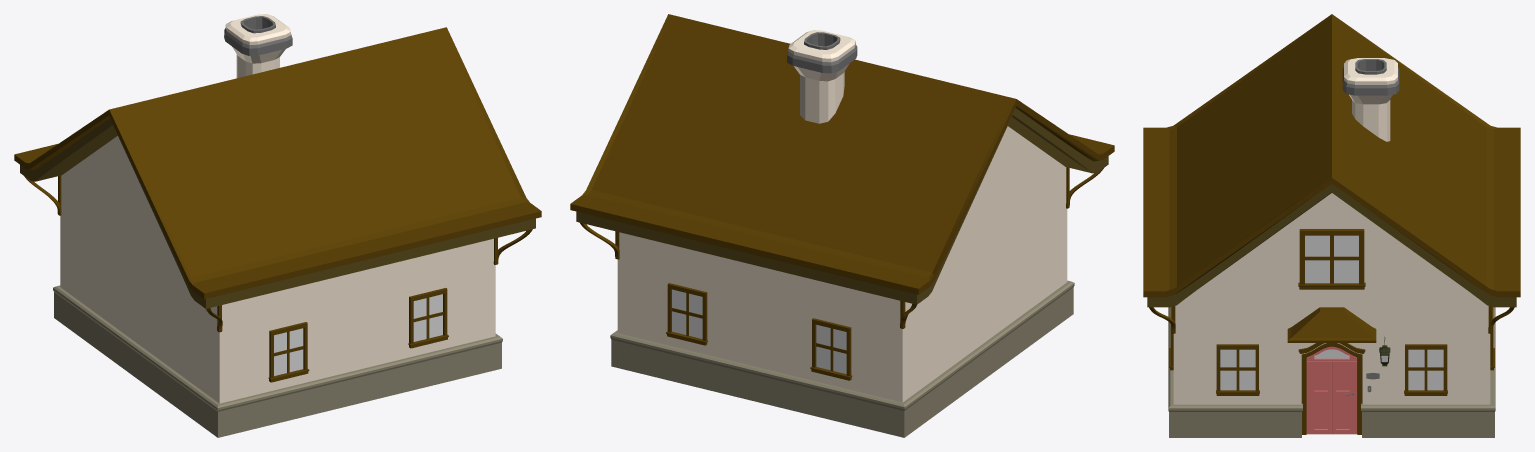
Rendered from TP_House.fbx.
3 renders of one model, left to right at view 1: azimuth 30°, elevation 25°; view 2: azimuth 150°, elevation 25°; view 3: azimuth 270°, elevation 25°, orthographic. The views are drawn at different scales.
Visible parts, largest first — view 1: roof, house_base, windows, chimney, roof_detail; view 2: roof, house_base, chimney, windows, roof_detail; view 3: roof, house_base, windows, door, chimney, door_roof, door_frame, roof_detail.
Part boxes in pixels (box(x1,y1,x2,y2)): roof: box(14, 27, 541, 308); house_base: box(53, 136, 502, 437); windows: box(268, 288, 448, 382); chimney: box(224, 14, 292, 78); roof_detail: box(24, 175, 532, 332); roof: box(570, 14, 1114, 304); house_base: box(610, 126, 1074, 437); chimney: box(787, 30, 857, 123); windows: box(666, 283, 852, 380); roof_detail: box(580, 167, 1103, 328); roof: box(1143, 14, 1520, 307); house_base: box(1168, 193, 1495, 437); windows: box(1169, 229, 1494, 395); door: box(1306, 346, 1357, 434); chimney: box(1342, 58, 1399, 141); door_roof: box(1287, 307, 1376, 342); door_frame: box(1298, 343, 1365, 434); roof_detail: box(1149, 306, 1514, 333).
Bounding box in the file's own units: 636 × 550 × 620.
